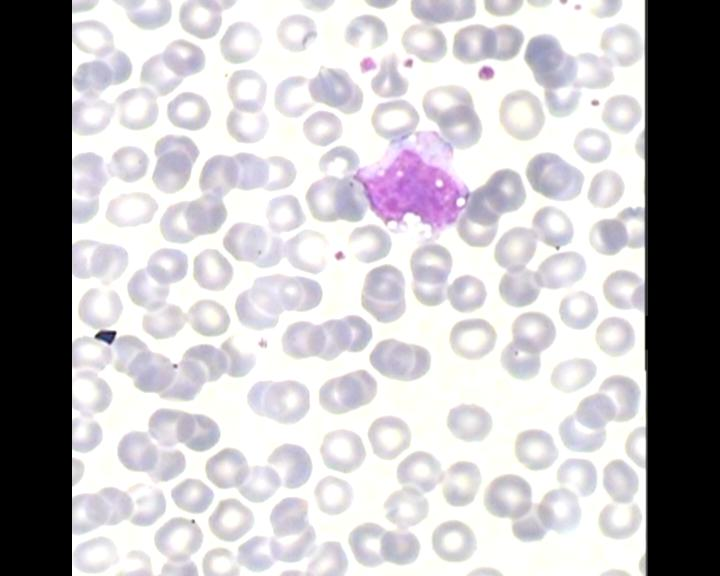mono: (353, 130, 472, 242)
